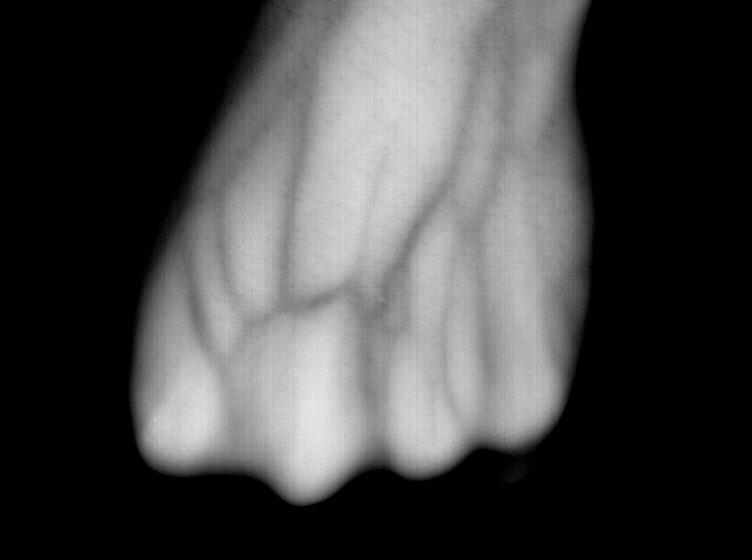Vein: (275, 53, 474, 330)
